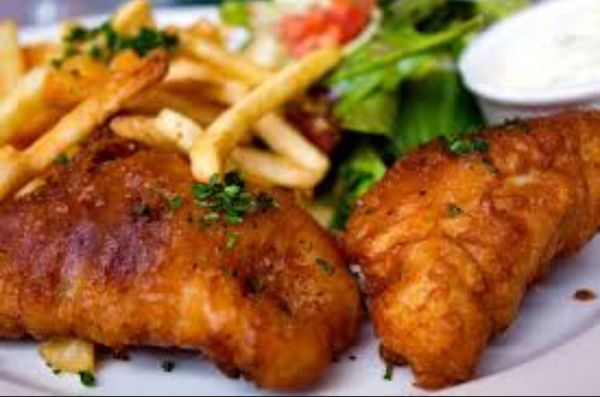soup: (340, 106, 600, 387)
